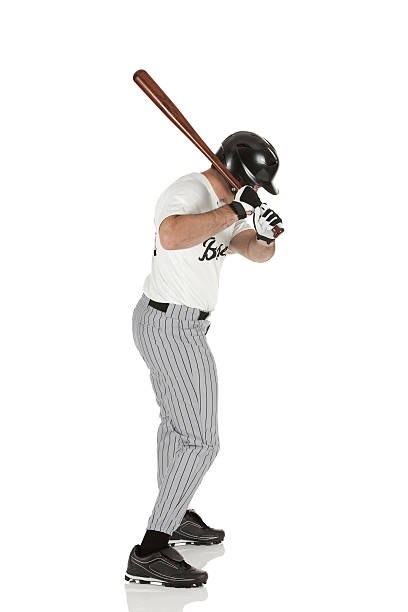bita: (118, 62, 282, 224)
